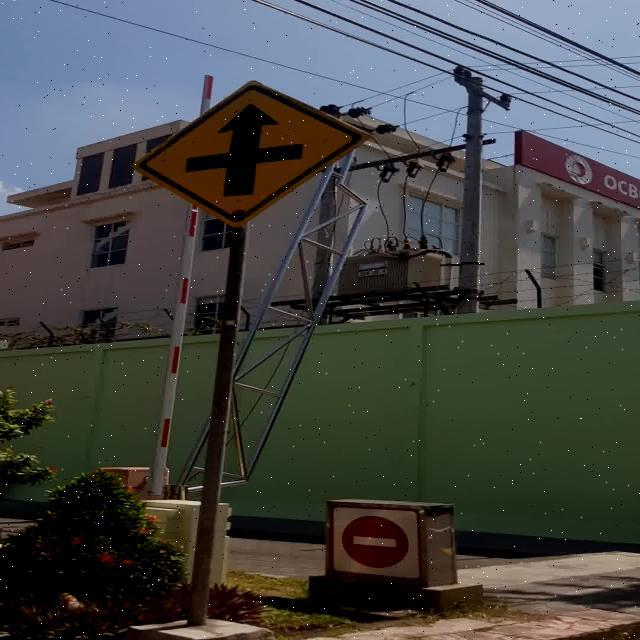Persimpangan 3 Prioritas: (131, 80, 372, 228)
